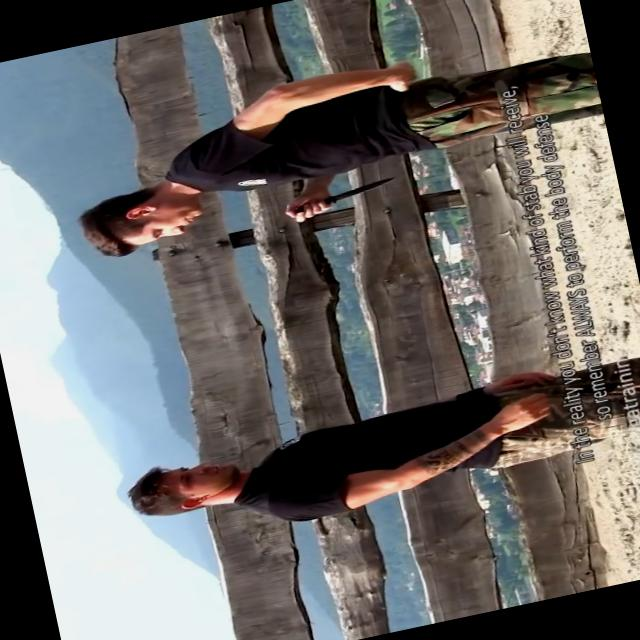knife: (274, 172, 402, 229)
